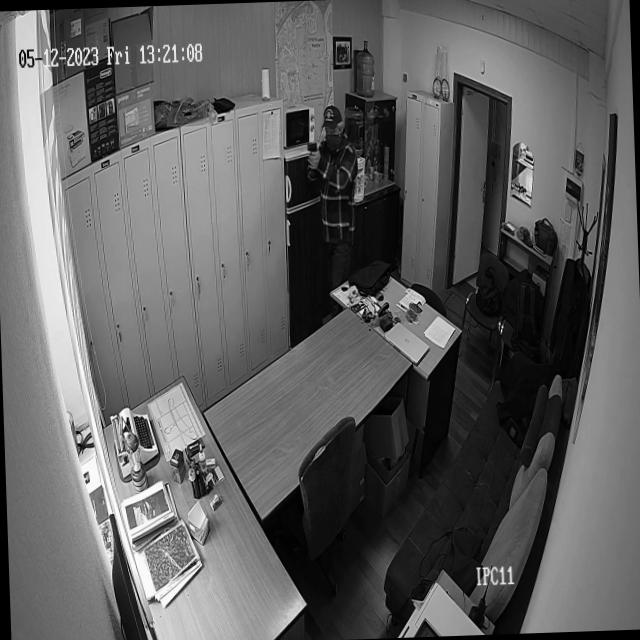gun: (300, 138, 317, 149)
person with a gun: (300, 100, 368, 278)
